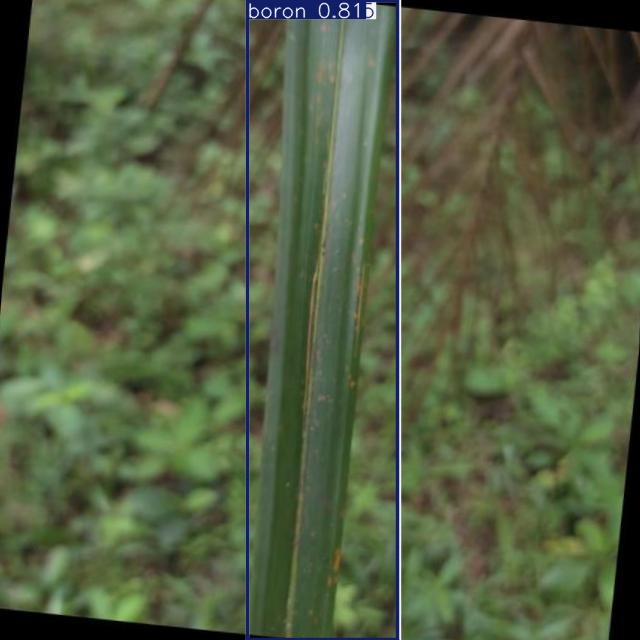Kalium: (248, 0, 400, 640)
nitrogen: (248, 0, 398, 640)
